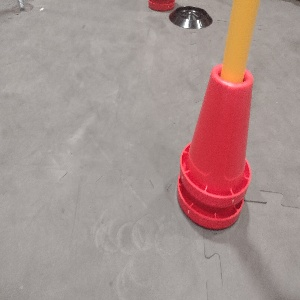Red_2: (177, 64, 253, 230)
